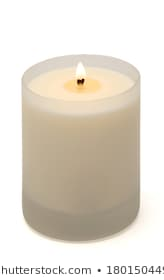Fire: (75, 60, 87, 87)
